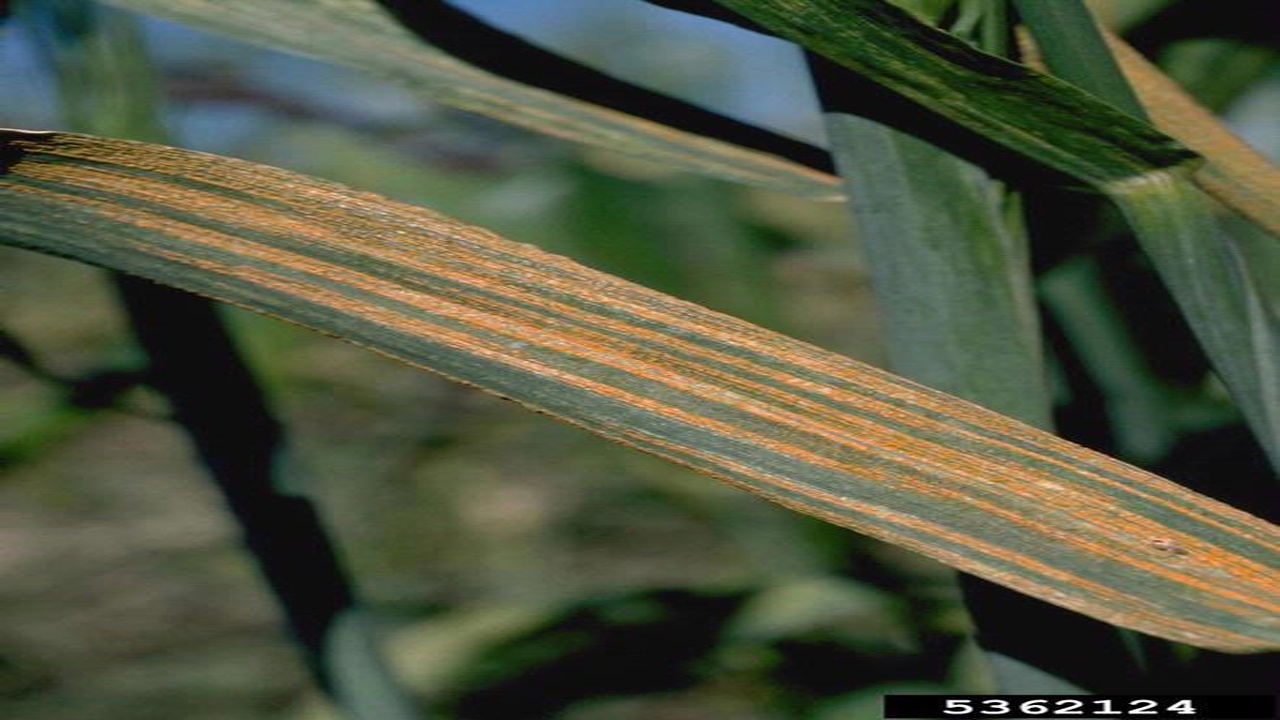stripe_rust: (2, 125, 1280, 661)
